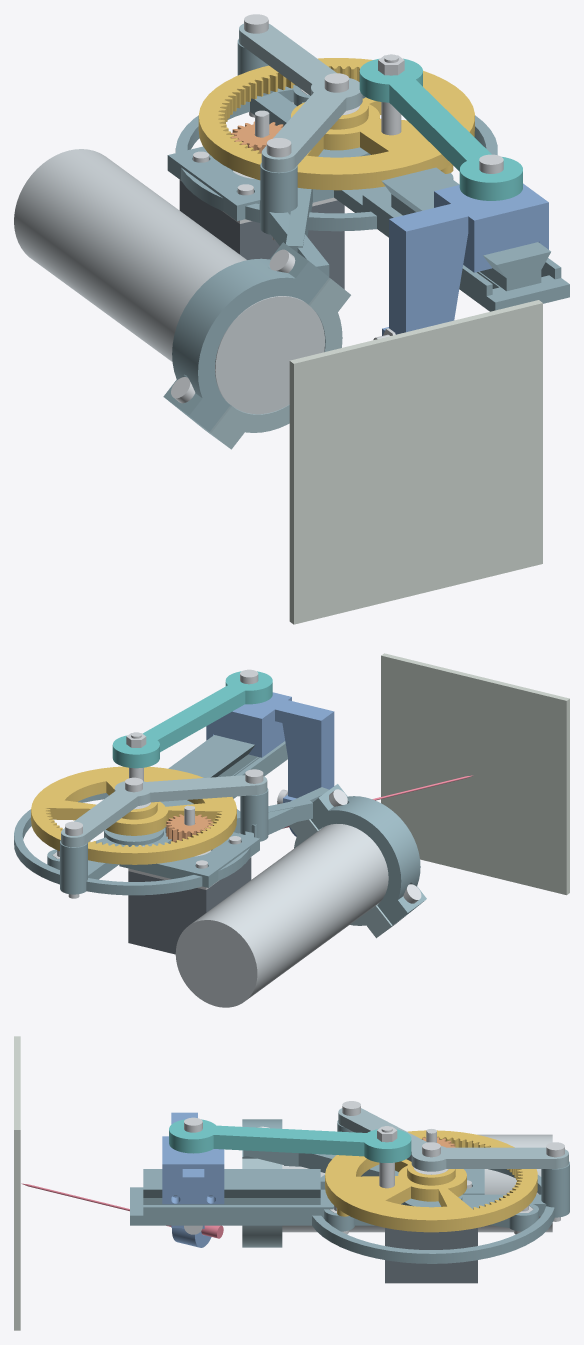
Rendered from probe_stage_v3_assembly.glb.
The picture shows the model from 3 angles, top to bottom: view 1: azimuth 30°, elevation 25°; view 2: azimuth 150°, elevation 25°; view 3: azimuth 270°, elevation 25°; orthographic projection. The views are drawn at different scales.
Parts seen in each view (by area): view 1: =>[0:1:1:50], =>[0:1:1:48], =>[0:1:1:3], =>[0:1:1:6], =>[0:1:1:9], =>[0:1:1:8], =>[0:1:1:5], =>[0:1:1:27], =>[0:1:1:4], =>[0:1:1:7]; view 2: =>[0:1:1:50], =>[0:1:1:48], =>[0:1:1:3], =>[0:1:1:6], =>[0:1:1:9], =>[0:1:1:27], =>[0:1:1:8], =>[0:1:1:5], =>[0:1:1:4], =>[0:1:1:7]; view 3: =>[0:1:1:3], =>[0:1:1:6], =>[0:1:1:8], =>[0:1:1:9], =>[0:1:1:5], =>[0:1:1:27], =>[0:1:1:48], =>[0:1:1:50], =>[0:1:1:4], =>[0:1:1:49], =>[0:1:1:17].
Part boxes in pixels (x1=…): =>[0:1:1:50]: x1=289, y1=300, x2=542, y2=624; =>[0:1:1:48]: x1=14, y1=149, x2=324, y2=414; =>[0:1:1:3]: x1=163, y1=39, x2=569, y2=431; =>[0:1:1:6]: x1=198, y1=58, x2=474, y2=190; =>[0:1:1:9]: x1=382, y1=183, x2=548, y2=335; =>[0:1:1:8]: x1=359, y1=58, x2=522, y2=200; =>[0:1:1:5]: x1=239, y1=23, x2=362, y2=172; =>[0:1:1:27]: x1=179, y1=180, x2=344, y2=289; =>[0:1:1:4]: x1=185, y1=278, x2=350, y2=449; =>[0:1:1:7]: x1=230, y1=121, x2=283, y2=153; =>[0:1:1:50]: x1=381, y1=653, x2=569, y2=895; =>[0:1:1:48]: x1=175, y1=824, x2=388, y2=1007; =>[0:1:1:3]: x1=14, y1=735, x2=426, y2=924; =>[0:1:1:6]: x1=31, y1=766, x2=236, y2=864; =>[0:1:1:9]: x1=206, y1=692, x2=334, y2=836; =>[0:1:1:27]: x1=128, y1=857, x2=251, y2=954; =>[0:1:1:8]: x1=112, y1=671, x2=272, y2=768; =>[0:1:1:5]: x1=61, y1=775, x2=267, y2=847; =>[0:1:1:4]: x1=289, y1=819, x2=408, y2=938; =>[0:1:1:7]: x1=166, y1=814, x2=213, y2=842; =>[0:1:1:3]: x1=130, y1=1119, x2=569, y2=1263; =>[0:1:1:6]: x1=325, y1=1130, x2=537, y2=1232; =>[0:1:1:8]: x1=169, y1=1119, x2=411, y2=1162; =>[0:1:1:9]: x1=162, y1=1112, x2=224, y2=1247; =>[0:1:1:5]: x1=338, y1=1108, x2=568, y2=1171; =>[0:1:1:27]: x1=385, y1=1228, x2=477, y2=1283; =>[0:1:1:48]: x1=282, y1=1134, x2=552, y2=1232; =>[0:1:1:50]: x1=14, y1=1036, x2=20, y2=1330; =>[0:1:1:4]: x1=242, y1=1158, x2=282, y2=1247; =>[0:1:1:49]: x1=21, y1=1183, x2=223, y2=1238; =>[0:1:1:17]: x1=379, y1=1162, x2=394, y2=1188.
Bounding box in the file's own units: 0.182 × 0.1177 × 0.2508.
